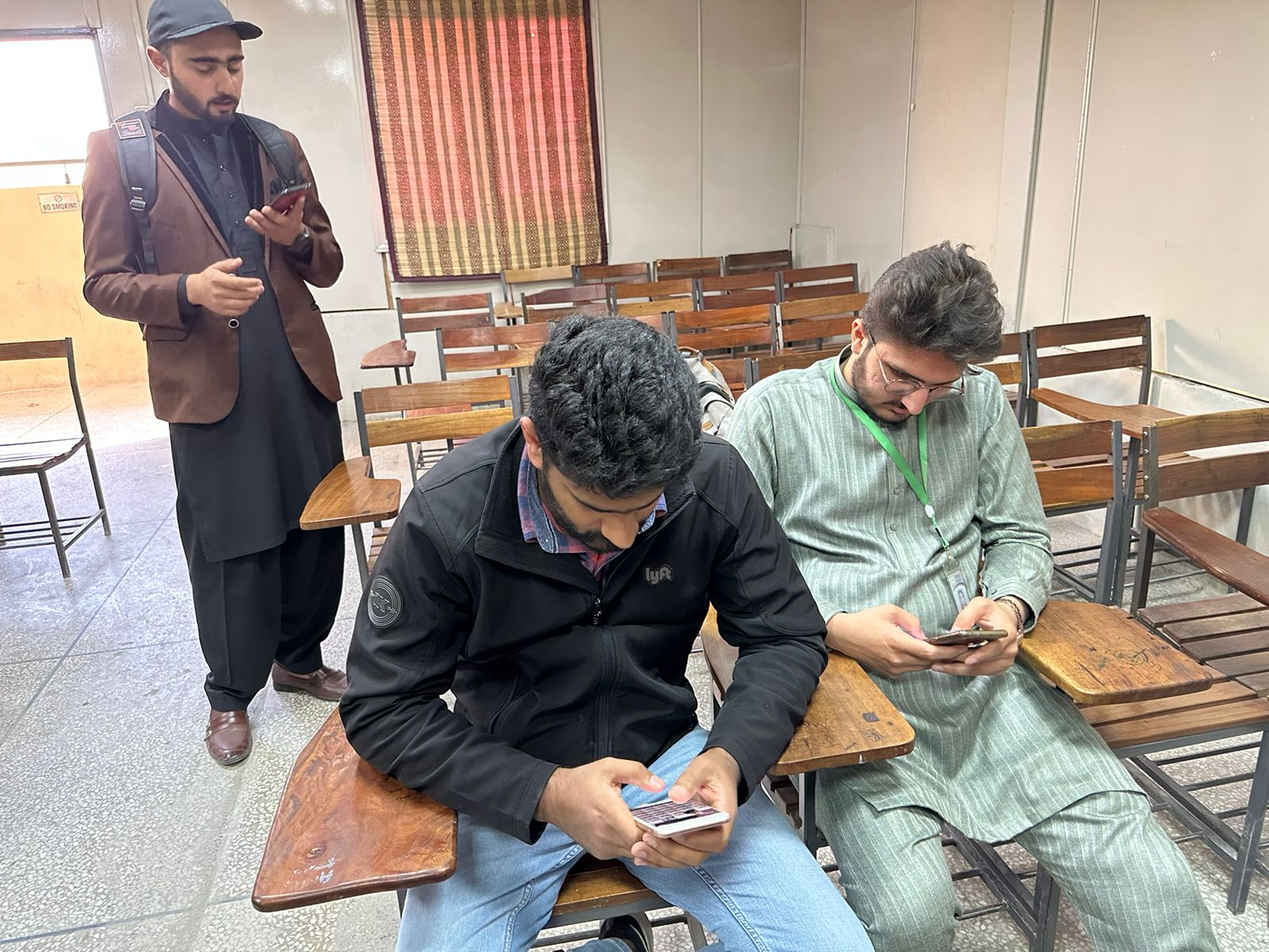phone: (533, 744, 743, 870), (828, 594, 1019, 680), (240, 182, 311, 248)
